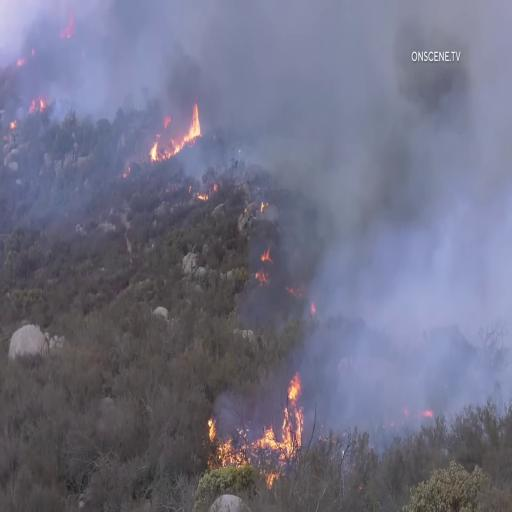fire: (201, 381, 304, 471), (169, 98, 211, 150)
smoke: (338, 104, 418, 305)
